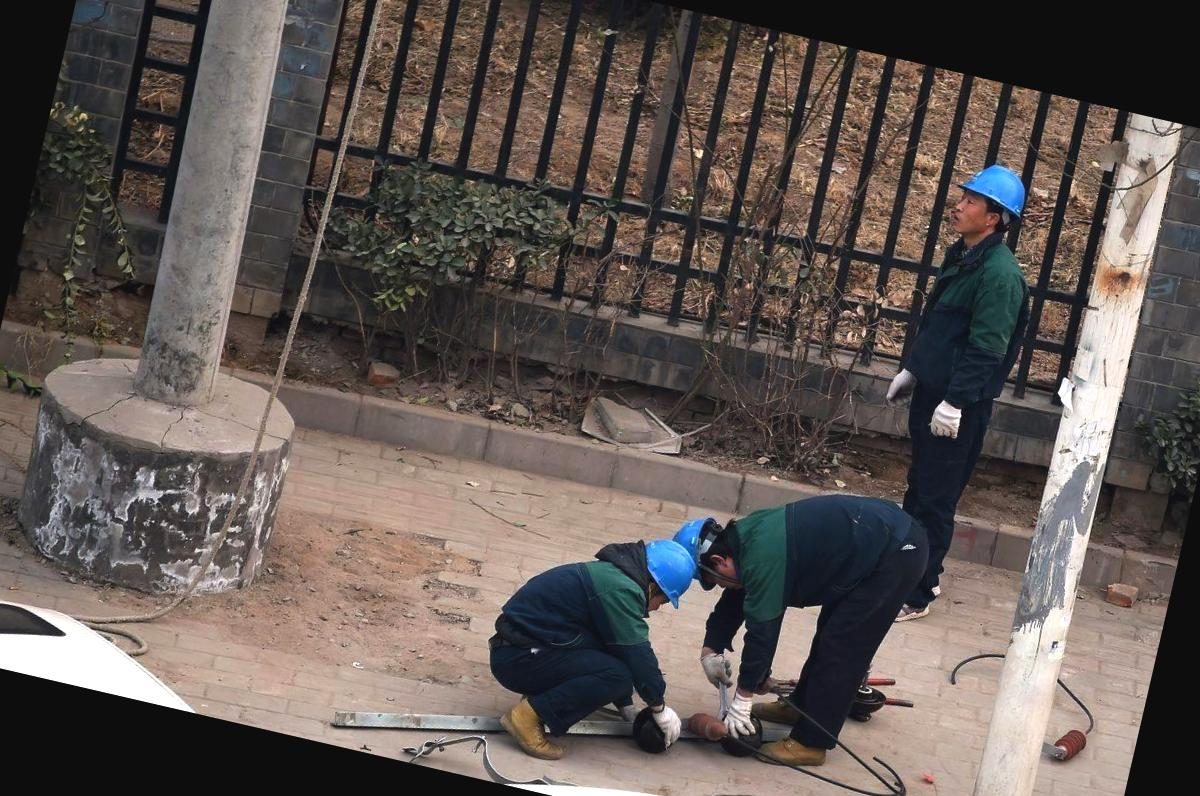helmet: (633, 527, 713, 617), (955, 148, 1041, 215)
person: (832, 142, 1069, 620), (469, 503, 726, 794)
